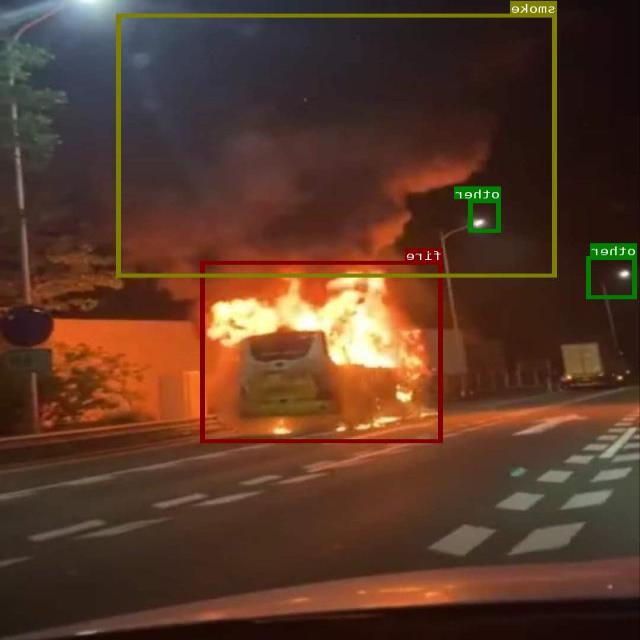fire: (201, 260, 444, 442)
other: (587, 256, 637, 298), (470, 198, 501, 232)
smoke: (118, 13, 557, 277)
